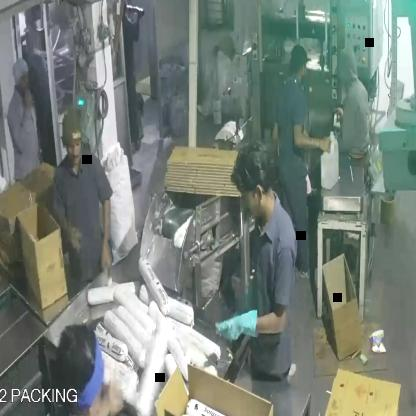glove: (211, 303, 267, 360)
no_glove: (292, 118, 337, 165), (96, 185, 117, 280), (52, 197, 83, 254), (18, 88, 42, 118)
